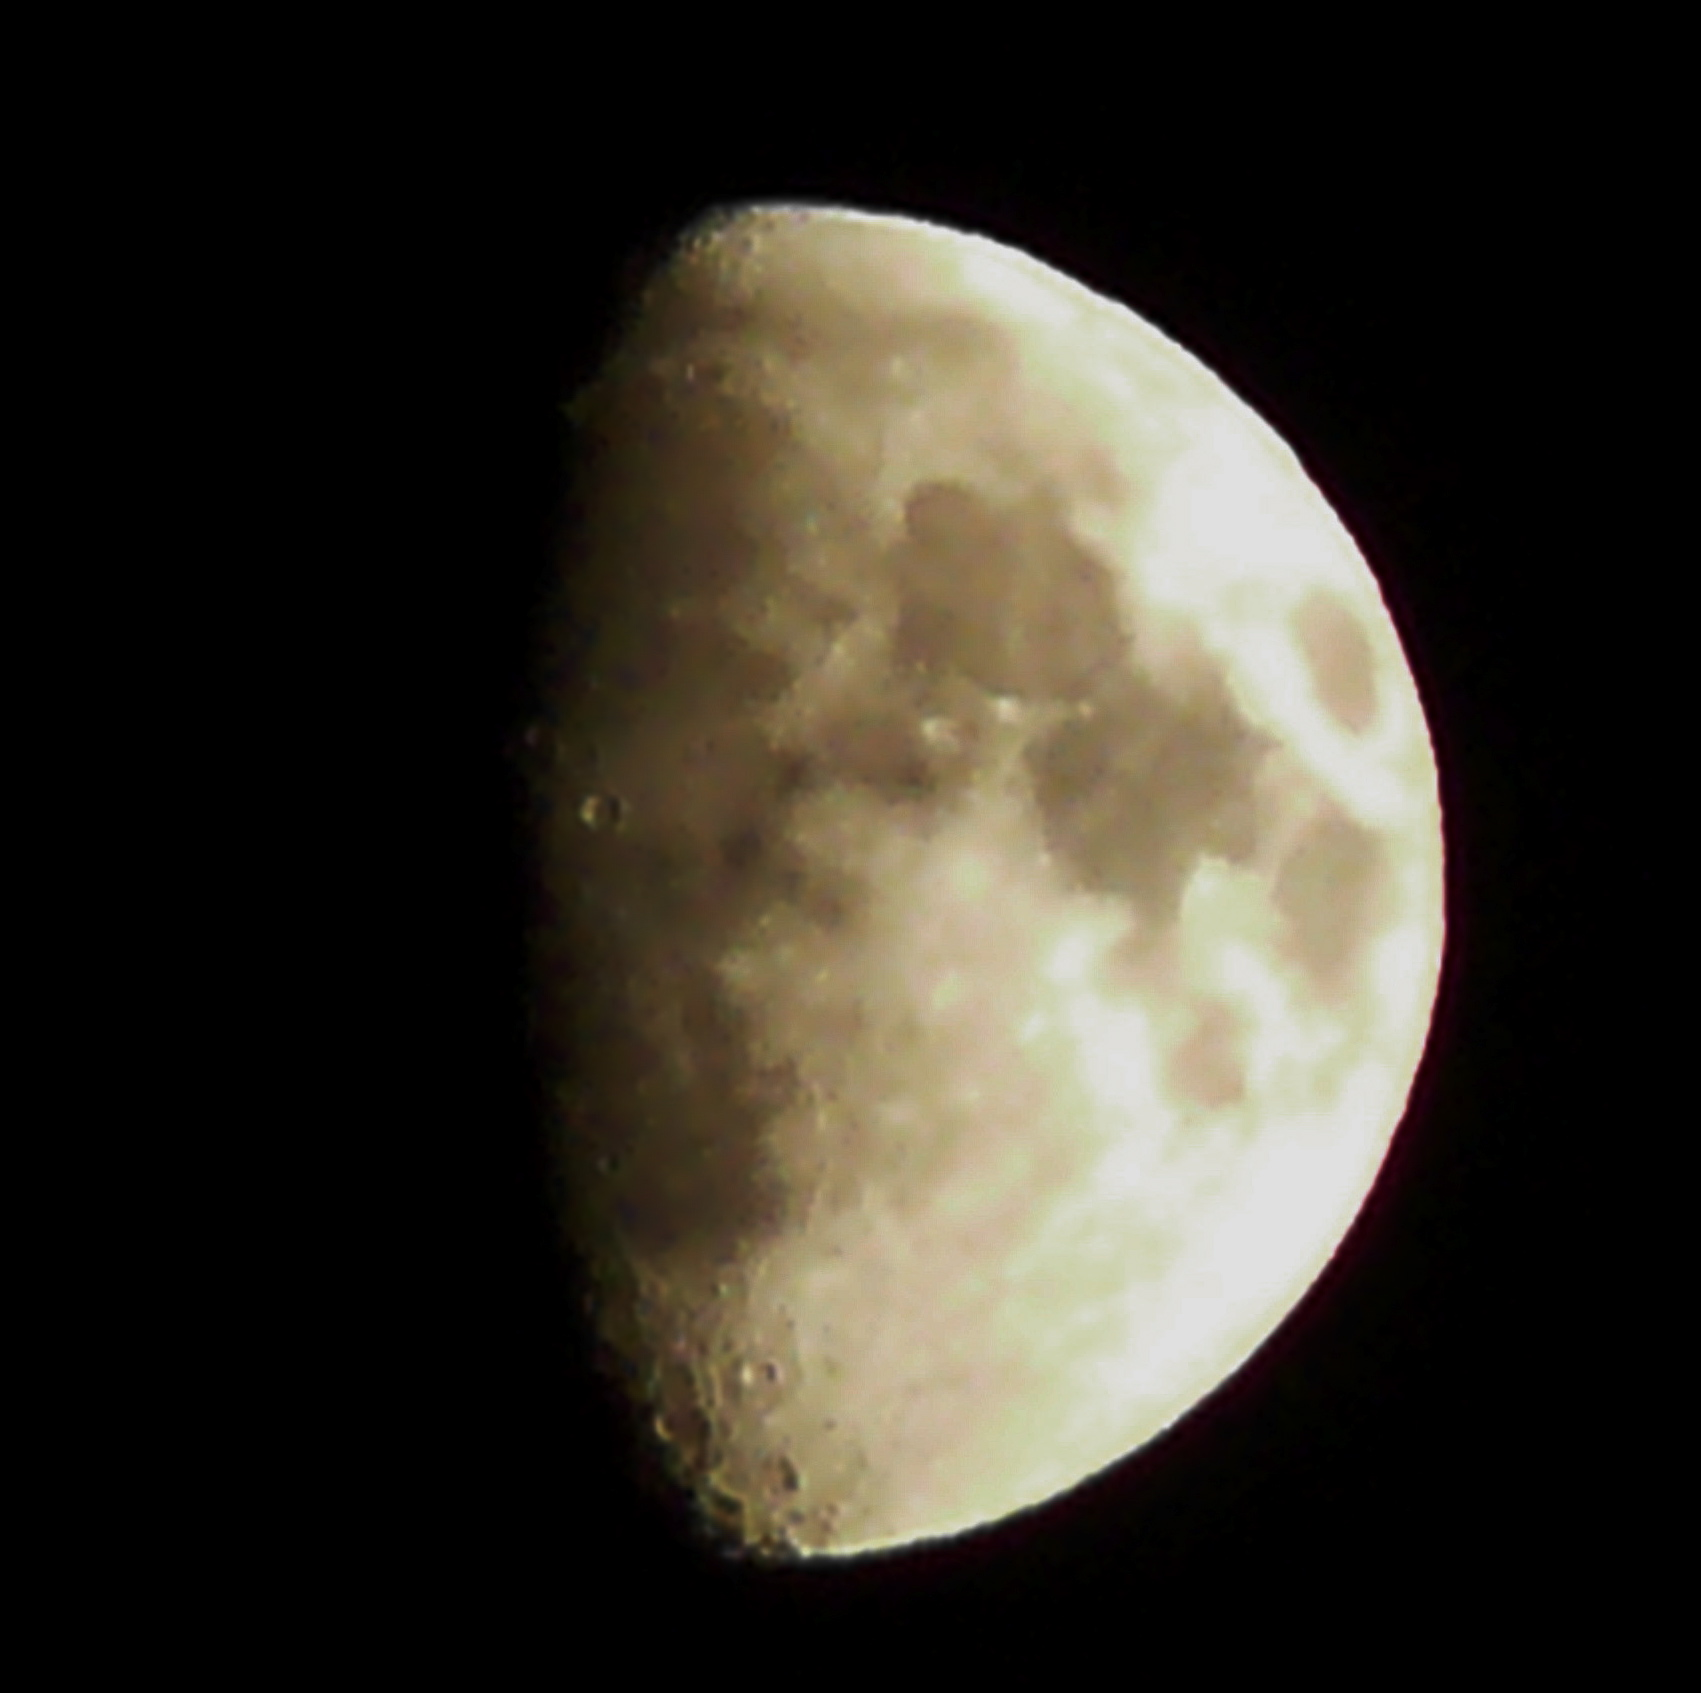crater: (550, 767, 671, 888), (710, 1318, 816, 1423), (665, 324, 754, 447), (1058, 681, 1120, 769), (1009, 823, 1075, 899), (977, 671, 1047, 736), (909, 691, 963, 760)
